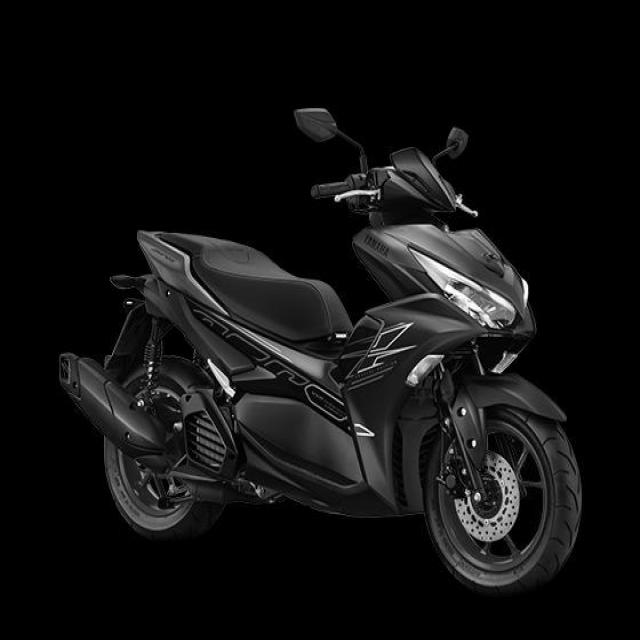Motorcycle: (59, 148, 580, 596)
